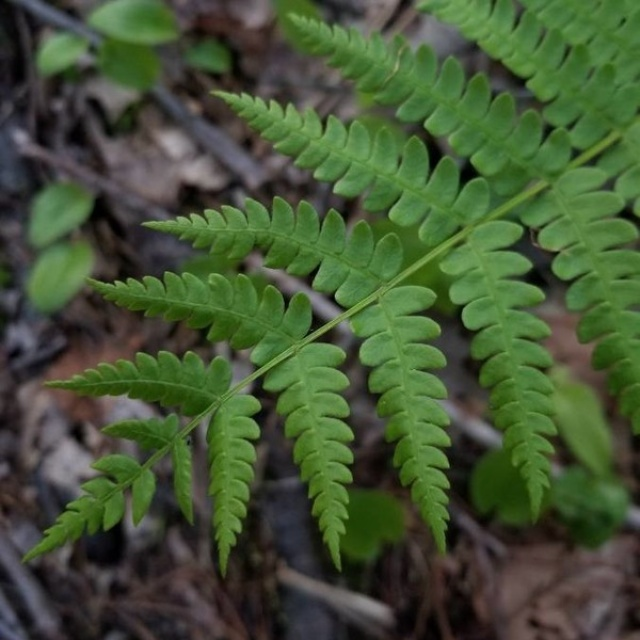obstacle: (74, 45, 614, 560)
